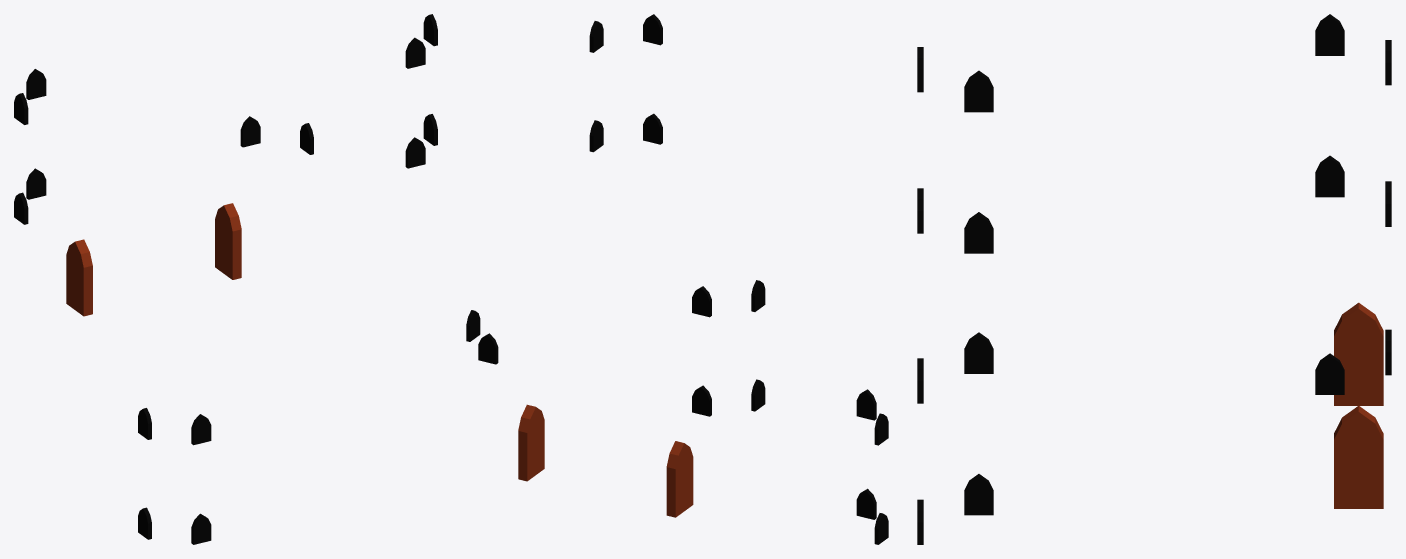
Rendered from level1 windows doors.fbx.
3 views of the same model, side by side, from view 1: azimuth 30°, elevation 25°; view 2: azimuth 150°, elevation 25°; view 3: azimuth 270°, elevation 25° (orthographic). The views are drawn at different scales.
Visible parts, largest first — view 1: Window.001; view 2: Window.001; view 3: Window.001.
Part boxes in pixels (bbox=[...]): Window.001: bbox=[14, 14, 437, 544]; Window.001: bbox=[466, 14, 888, 544]; Window.001: bbox=[917, 14, 1391, 544].
Bounding box in the file's own units: 243 × 362 × 243.
